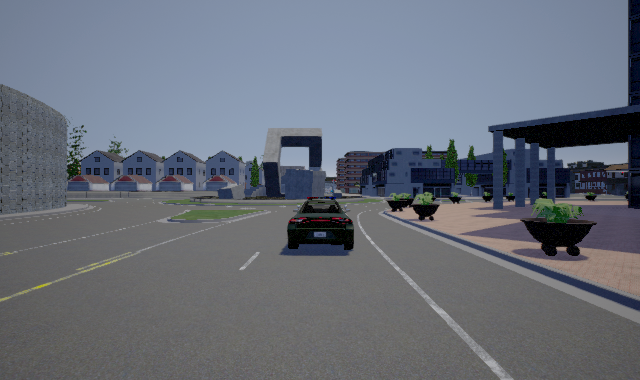traffic_light: (621, 172, 623, 175)
vehicle: (287, 197, 354, 250)
